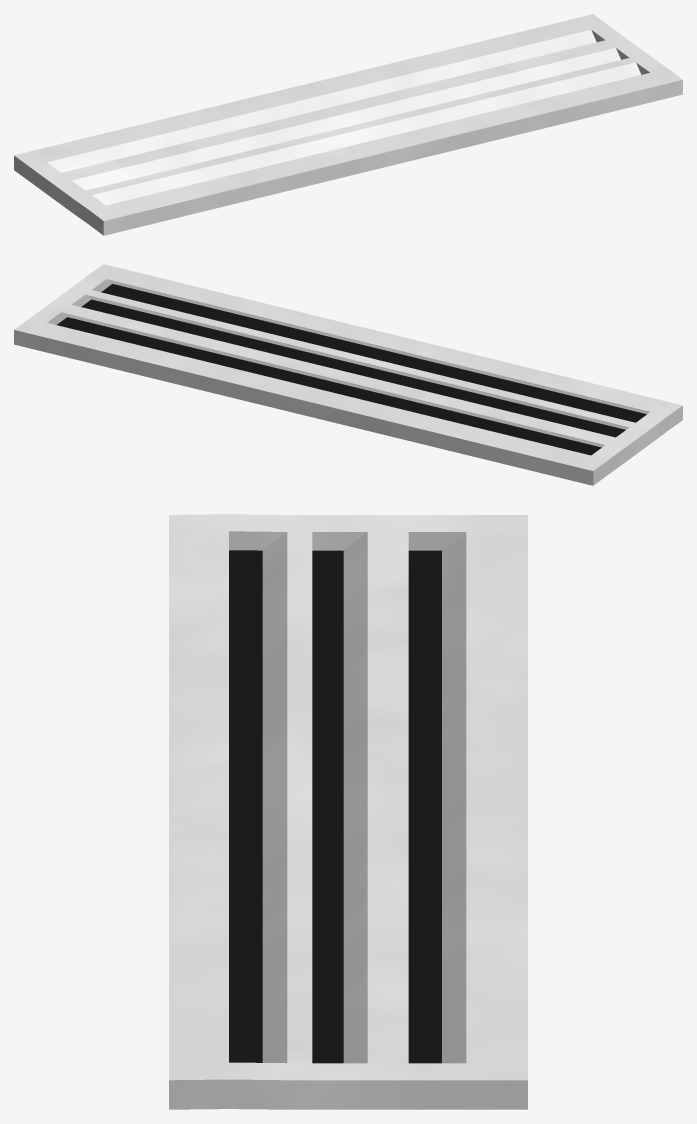
The model's file is SM_Vents_Short.obj.
The picture shows the model from 3 angles, top to bottom: view 1: azimuth 30°, elevation 25°; view 2: azimuth 150°, elevation 25°; view 3: azimuth 270°, elevation 25°; orthographic projection. The views are drawn at different scales.
Visible parts, largest first — view 1: SM_Vents_Short; view 2: SM_Vents_Short; view 3: SM_Vents_Short.
Boxes of the visible parts, <box> form: SM_Vents_Short: <box>14,14,682,235</box>; SM_Vents_Short: <box>14,264,682,485</box>; SM_Vents_Short: <box>169,514,527,1109</box>.
Size of the model in its own units: 0.4935 by 0.0123 by 0.1325.
Materials: 2 (1 with a texture image).
